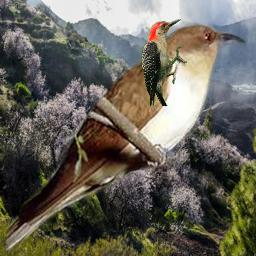Cuckoo: (6, 21, 247, 253)
Woodpecker: (141, 19, 187, 106)
